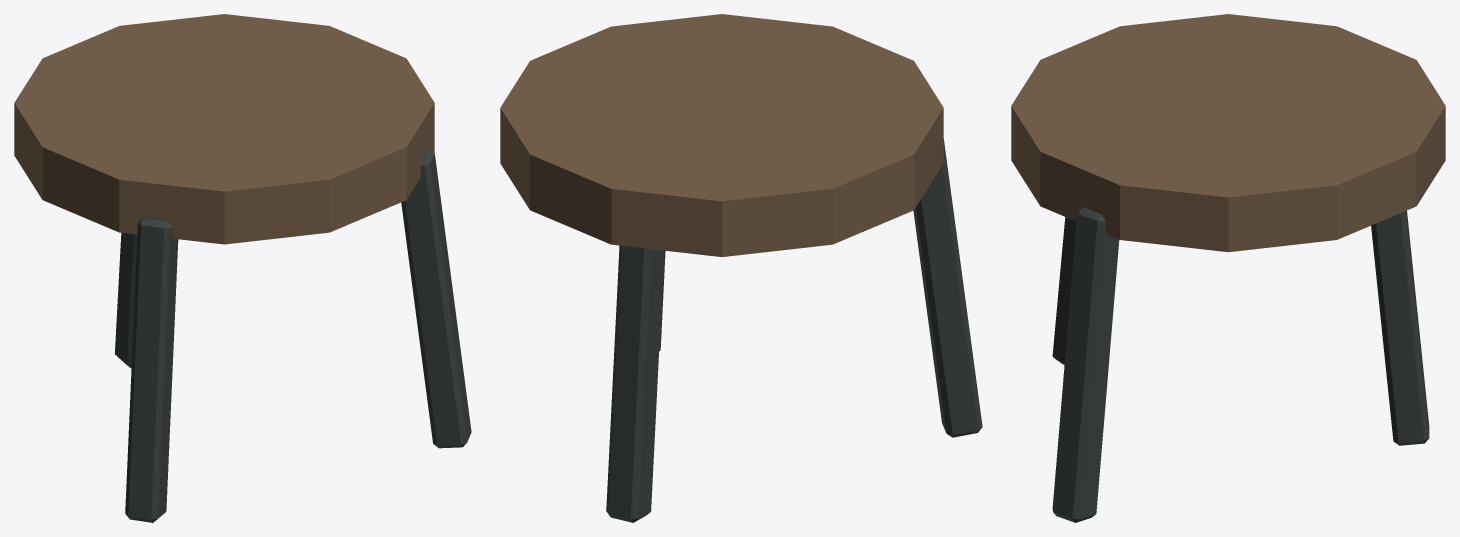
File: Stool01.fbx
The picture shows the model from 3 angles, left to right: view 1: azimuth 30°, elevation 25°; view 2: azimuth 150°, elevation 25°; view 3: azimuth 270°, elevation 25°; orthographic projection. The views are drawn at different scales.
Parts seen in each view (by area): view 1: Stool_Seat, Stool_Leg, Stool_Leg.001, Stool_Leg.002; view 2: Stool_Seat, Stool_Leg.002, Stool_Leg; view 3: Stool_Seat, Stool_Leg.001, Stool_Leg.002, Stool_Leg.
Boxes of the visible parts, bbox=[...] form: Stool_Seat: bbox=[14, 14, 434, 244]; Stool_Leg: bbox=[125, 218, 178, 522]; Stool_Leg.001: bbox=[401, 148, 471, 448]; Stool_Leg.002: bbox=[115, 233, 137, 368]; Stool_Seat: bbox=[500, 14, 943, 256]; Stool_Leg.002: bbox=[606, 245, 663, 522]; Stool_Leg: bbox=[913, 139, 982, 437]; Stool_Seat: bbox=[1011, 14, 1445, 252]; Stool_Leg.001: bbox=[1052, 207, 1119, 522]; Stool_Leg.002: bbox=[1371, 210, 1429, 445]; Stool_Leg: bbox=[1052, 217, 1076, 365].
Bounding box in the file's own units: 54 × 45.94 × 54.
